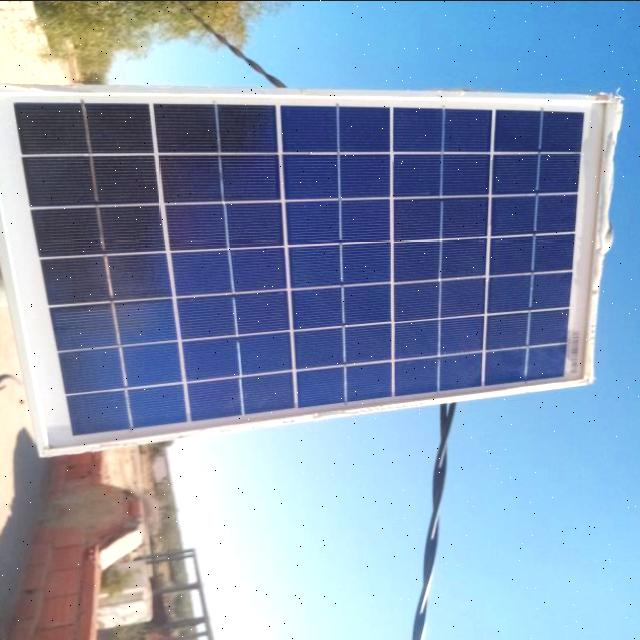Normal Solar Panel: (1, 90, 614, 453)
